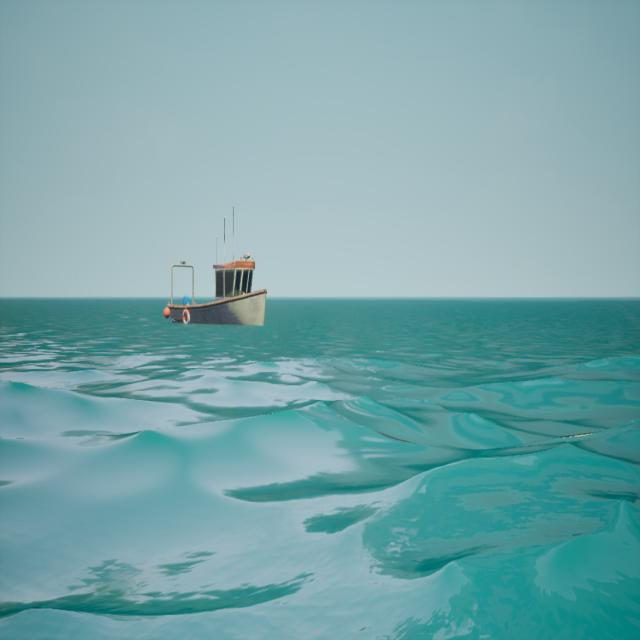ship: (158, 209, 278, 339)
